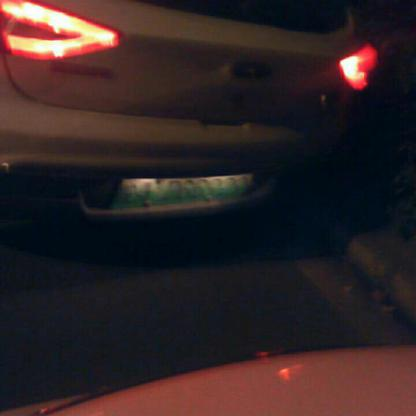lp: (113, 174, 254, 207)
